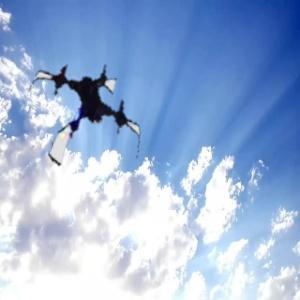drone: (20, 53, 151, 184)
